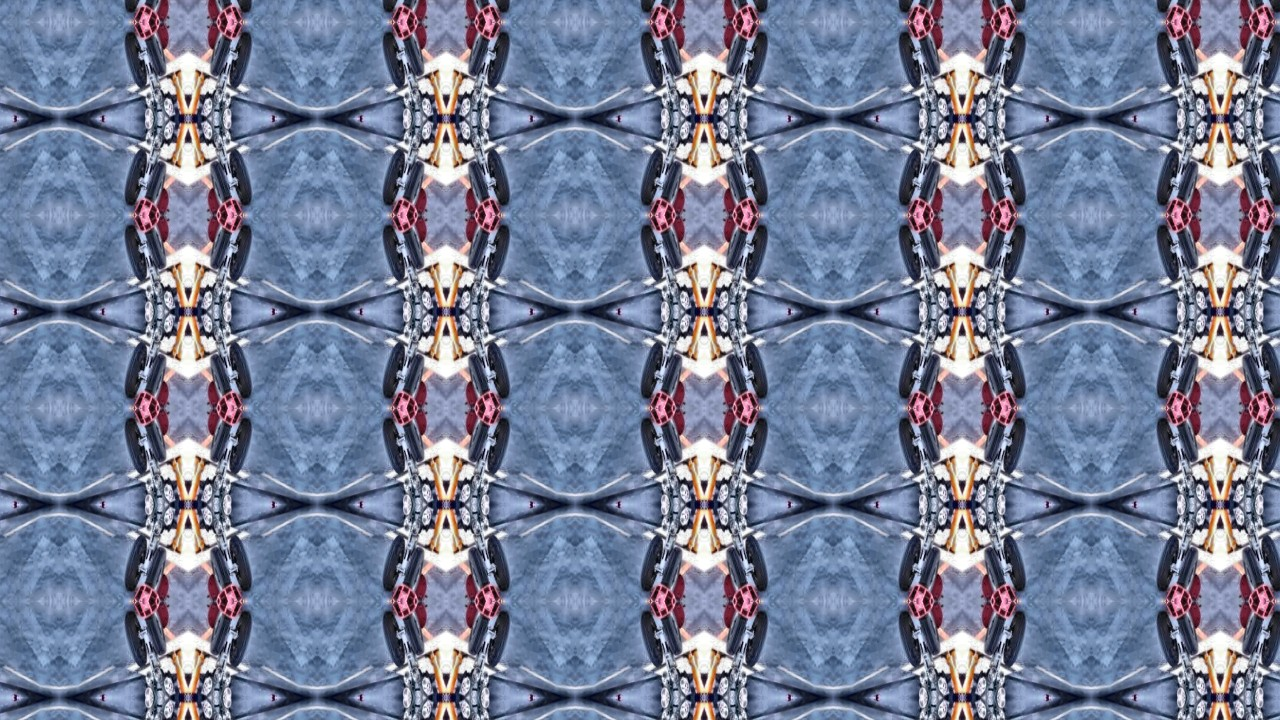chock: (129, 20, 164, 41), (209, 20, 244, 41), (388, 20, 423, 41), (468, 20, 503, 41), (647, 20, 682, 41), (727, 20, 762, 41), (906, 20, 941, 41), (986, 20, 1021, 41), (1165, 20, 1200, 41), (1245, 20, 1280, 41), (129, 194, 164, 215), (209, 194, 244, 215), (388, 194, 423, 215), (468, 194, 503, 215), (647, 194, 682, 215), (727, 194, 762, 215), (906, 194, 941, 215), (986, 194, 1021, 215), (1165, 194, 1200, 215), (1245, 194, 1280, 215), (129, 408, 164, 429), (209, 408, 244, 429), (388, 408, 423, 429), (468, 408, 503, 429), (647, 408, 682, 429), (727, 408, 762, 429), (906, 408, 941, 429), (986, 408, 1021, 429), (1165, 408, 1200, 429), (1245, 408, 1280, 429), (129, 0, 164, 20), (209, 0, 244, 20), (388, 0, 423, 20), (468, 0, 503, 20), (647, 0, 682, 20), (727, 0, 762, 20), (906, 0, 941, 20), (986, 0, 1021, 20), (1165, 0, 1200, 20), (1245, 0, 1280, 20), (129, 215, 164, 235), (209, 215, 244, 235), (388, 215, 423, 235), (468, 215, 503, 235), (647, 215, 682, 235), (727, 215, 762, 235), (906, 215, 941, 235), (986, 215, 1021, 235), (1165, 215, 1200, 235), (1245, 215, 1280, 235), (129, 388, 164, 408), (209, 388, 244, 408), (388, 388, 423, 408), (468, 388, 503, 408), (647, 388, 682, 408), (727, 388, 762, 408), (906, 388, 941, 408), (986, 388, 1021, 408), (1165, 388, 1200, 408), (1245, 388, 1280, 408), (129, 582, 164, 602), (209, 582, 244, 602), (388, 582, 423, 602), (468, 582, 503, 602), (647, 582, 682, 602), (727, 582, 762, 602), (906, 582, 941, 602), (986, 582, 1021, 602), (1165, 582, 1200, 602), (1245, 582, 1280, 602), (129, 603, 164, 623), (209, 603, 244, 623), (388, 603, 423, 623), (468, 603, 503, 623), (647, 603, 682, 623), (727, 603, 762, 623), (906, 603, 941, 623), (986, 603, 1021, 623), (1165, 603, 1200, 623), (1245, 603, 1280, 623), (153, 214, 172, 243), (201, 214, 220, 243), (412, 214, 431, 243), (460, 214, 479, 243), (671, 214, 690, 243), (719, 214, 738, 243), (930, 214, 949, 243), (978, 214, 997, 243), (1189, 214, 1208, 243), (1237, 214, 1256, 243), (153, 602, 172, 631), (201, 602, 220, 631), (412, 602, 431, 631), (460, 602, 479, 631), (671, 602, 690, 631), (719, 602, 738, 631), (930, 602, 949, 631), (978, 602, 997, 631), (1189, 602, 1208, 631), (1237, 602, 1256, 631), (153, 21, 172, 49), (201, 21, 220, 49), (412, 21, 431, 49), (460, 21, 479, 49), (671, 21, 690, 49), (719, 21, 738, 49), (930, 21, 949, 49), (978, 21, 997, 49), (1189, 21, 1208, 49), (1237, 21, 1256, 49), (153, 186, 172, 214), (201, 186, 220, 214), (412, 186, 431, 214), (460, 186, 479, 214), (671, 186, 690, 214), (719, 186, 738, 214), (930, 186, 949, 214), (978, 186, 997, 214), (1189, 186, 1208, 214), (1237, 186, 1256, 214), (153, 380, 172, 408), (201, 380, 220, 408), (412, 380, 431, 408), (460, 380, 479, 408), (671, 380, 690, 408), (719, 380, 738, 408), (930, 380, 949, 408), (978, 380, 997, 408), (1189, 380, 1208, 408), (1237, 380, 1256, 408), (153, 409, 172, 437), (201, 409, 220, 437), (412, 409, 431, 437), (460, 409, 479, 437), (671, 409, 690, 437), (719, 409, 738, 437), (930, 409, 949, 437), (978, 409, 997, 437), (1189, 409, 1208, 437), (1237, 409, 1256, 437), (153, 574, 172, 602), (201, 574, 220, 602), (412, 574, 431, 602), (460, 574, 479, 602), (671, 574, 690, 602), (719, 574, 738, 602), (930, 574, 949, 602), (978, 574, 997, 602), (1189, 574, 1208, 602), (1237, 574, 1256, 602), (153, 0, 172, 20), (201, 0, 220, 20), (412, 0, 431, 20), (460, 0, 479, 20), (671, 0, 690, 20), (719, 0, 738, 20), (930, 0, 949, 20), (978, 0, 997, 20), (1189, 0, 1208, 20), (1237, 0, 1256, 20)
wheel: (119, 28, 148, 89), (225, 28, 254, 89), (378, 28, 407, 89), (484, 28, 513, 89), (637, 28, 666, 89), (743, 28, 772, 89), (896, 28, 925, 89), (1002, 28, 1031, 89), (1155, 28, 1184, 89), (119, 146, 148, 207), (225, 146, 254, 207), (378, 146, 407, 207), (484, 146, 513, 207), (637, 146, 666, 207), (743, 146, 772, 207), (896, 146, 925, 207), (1002, 146, 1031, 207), (1155, 146, 1184, 207), (119, 222, 148, 283), (225, 222, 254, 283), (378, 222, 407, 283), (484, 222, 513, 283), (637, 222, 666, 283), (743, 222, 772, 283), (896, 222, 925, 283), (1002, 222, 1031, 283), (1155, 222, 1184, 283), (119, 340, 148, 401), (225, 340, 254, 401), (378, 340, 407, 401), (484, 340, 513, 401), (637, 340, 666, 401), (743, 340, 772, 401), (896, 340, 925, 401), (1002, 340, 1031, 401), (1155, 340, 1184, 401), (119, 416, 148, 477), (225, 416, 254, 477), (378, 416, 407, 477), (484, 416, 513, 477), (637, 416, 666, 477), (743, 416, 772, 477), (896, 416, 925, 477), (1002, 416, 1031, 477), (1155, 416, 1184, 477), (119, 534, 148, 595), (225, 534, 254, 595), (378, 534, 407, 595), (484, 534, 513, 595), (637, 534, 666, 595), (743, 534, 772, 595), (896, 534, 925, 595), (1002, 534, 1031, 595), (1155, 534, 1184, 595), (119, 610, 148, 671), (225, 610, 254, 671), (378, 610, 407, 671), (484, 610, 513, 671), (637, 610, 666, 671), (743, 610, 772, 671), (896, 610, 925, 671), (1002, 610, 1031, 671), (1155, 610, 1184, 671), (142, 29, 167, 78), (206, 29, 231, 78), (401, 29, 426, 78), (465, 29, 490, 78), (660, 29, 685, 78), (724, 29, 749, 78), (919, 29, 944, 78), (983, 29, 1008, 78), (1178, 29, 1203, 78), (1242, 29, 1267, 78), (142, 157, 167, 206), (206, 157, 231, 206), (401, 157, 426, 206), (465, 157, 490, 206), (660, 157, 685, 206), (724, 157, 749, 206), (919, 157, 944, 206), (983, 157, 1008, 206), (1178, 157, 1203, 206), (1242, 157, 1267, 206), (142, 223, 167, 272), (206, 223, 231, 272), (401, 223, 426, 272), (465, 223, 490, 272), (660, 223, 685, 272), (724, 223, 749, 272), (919, 223, 944, 272), (983, 223, 1008, 272), (1178, 223, 1203, 272), (1242, 223, 1267, 272), (142, 351, 167, 400), (206, 351, 231, 400), (401, 351, 426, 400), (465, 351, 490, 400), (660, 351, 685, 400), (724, 351, 749, 400), (919, 351, 944, 400), (983, 351, 1008, 400), (1178, 351, 1203, 400), (1242, 351, 1267, 400), (142, 417, 167, 466), (206, 417, 231, 466), (401, 417, 426, 466), (465, 417, 490, 466), (660, 417, 685, 466), (724, 417, 749, 466), (919, 417, 944, 466), (983, 417, 1008, 466), (1178, 417, 1203, 466), (1242, 417, 1267, 466), (142, 545, 167, 594), (206, 545, 231, 594), (401, 545, 426, 594), (465, 545, 490, 594), (660, 545, 685, 594), (724, 545, 749, 594), (919, 545, 944, 594), (983, 545, 1008, 594), (1178, 545, 1203, 594), (1242, 545, 1267, 594), (142, 611, 167, 660), (206, 611, 231, 660), (401, 611, 426, 660), (465, 611, 490, 660), (660, 611, 685, 660), (724, 611, 749, 660), (919, 611, 944, 660), (983, 611, 1008, 660), (1178, 611, 1203, 660), (1242, 611, 1267, 660), (1261, 28, 1280, 89), (1261, 146, 1280, 207), (1261, 222, 1280, 283), (1261, 340, 1280, 401), (1261, 416, 1280, 477), (1261, 534, 1280, 595), (1261, 610, 1280, 671), (119, 0, 148, 13), (225, 0, 254, 13), (378, 0, 407, 13), (484, 0, 513, 13), (637, 0, 666, 13), (743, 0, 772, 13), (896, 0, 925, 13), (1002, 0, 1031, 13), (1155, 0, 1184, 13), (142, 0, 167, 12), (206, 0, 231, 12), (401, 0, 426, 12), (465, 0, 490, 12), (660, 0, 685, 12), (724, 0, 749, 12), (919, 0, 944, 12), (983, 0, 1008, 12), (1178, 0, 1203, 12), (1242, 0, 1267, 12), (1261, 0, 1280, 13)
